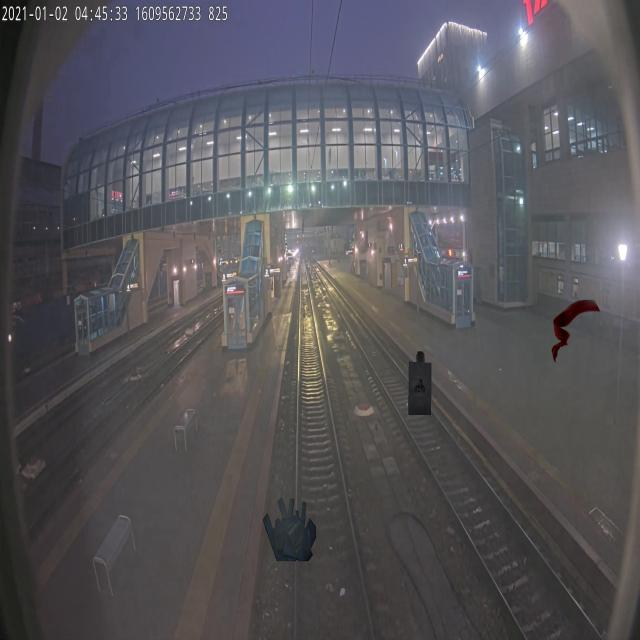floating object: (551, 300, 601, 364)
plastic bag: (262, 497, 316, 561), (408, 351, 432, 415)
